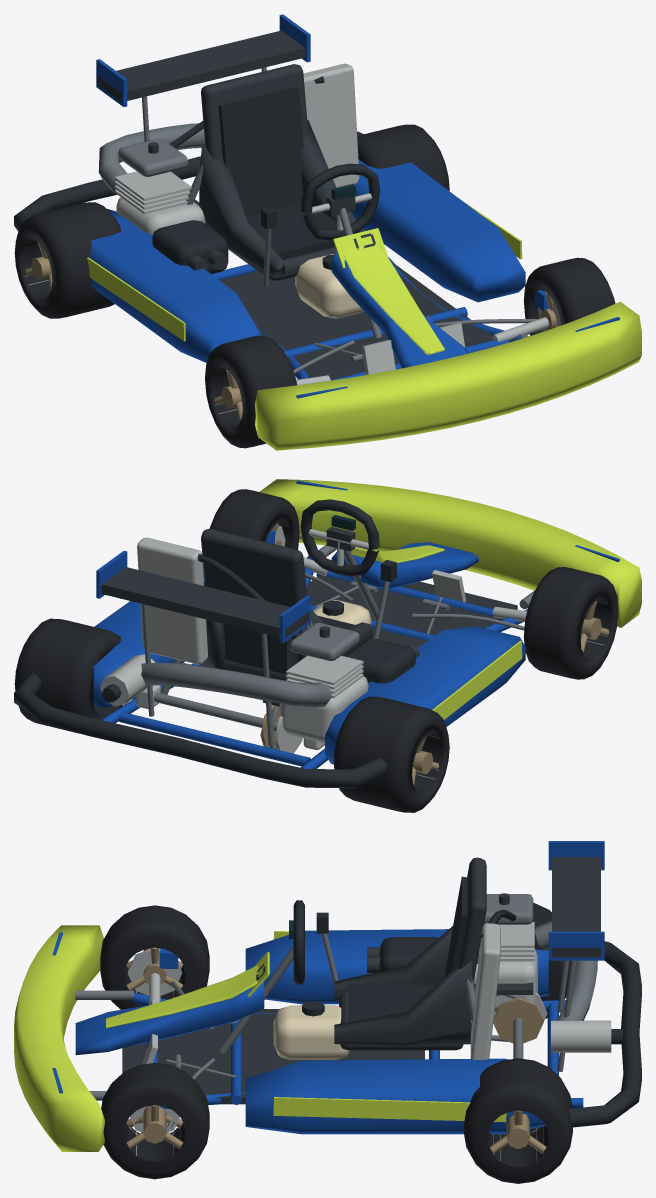
File: oobi-lod.glb
3 renders of one model, top to bottom at view 1: azimuth 30°, elevation 25°; view 2: azimuth 150°, elevation 25°; view 3: azimuth 270°, elevation 25°, orthographic.
Visible parts, largest first — view 1: Livery ivory (×2), paint, Satin composite, Slick vulcanised rubber (×4), Seat fabric, Brushed alloy (×2), Moulded bumper polymer (×2), Steel fasteners, Fuel reservoir, Magnesium wheel centres; view 2: Slick vulcanised rubber (×4), Satin composite (×2), Livery ivory (×2), paint, Brushed alloy (×3), Moulded bumper polymer (×2), Steel fasteners, Magnesium wheel centres (×2), Fuel reservoir; view 3: paint, Slick vulcanised rubber (×4), Satin composite, Livery ivory (×2), Brushed alloy (×2), Moulded bumper polymer (×2), Steel fasteners (×2), Magnesium wheel centres (×4), Seat fabric, Fuel reservoir.
Boxes of the visible parts, x1,y1,x2,y2 form: Livery ivory (×2): (87, 199, 641, 450); paint: (90, 14, 525, 380); Satin composite: (97, 30, 492, 379); Slick vulcanised rubber (×4): (14, 124, 615, 448); Seat fabric: (218, 86, 336, 259); Brushed alloy (×2): (114, 63, 548, 385); Moulded bumper polymer (×2): (14, 76, 380, 273); Steel fasteners: (98, 67, 538, 373); Fuel reservoir: (295, 254, 363, 318); Magnesium wheel centres: (214, 370, 242, 421); Slick vulcanised rubber (×4): (14, 489, 618, 812); Satin composite (×2): (101, 527, 517, 706); Livery ivory (×2): (128, 479, 641, 719); paint: (93, 542, 527, 768); Brushed alloy (×3): (100, 529, 526, 753); Moulded bumper polymer (×2): (14, 499, 415, 788); Steel fasteners: (135, 550, 524, 749); Magnesium wheel centres (×2): (412, 601, 609, 785); Fuel reservoir: (313, 600, 371, 624); paint: (75, 841, 604, 1134); Slick vulcanised rubber (×4): (100, 903, 572, 1183); Satin composite: (122, 857, 600, 1104); Livery ivory (×2): (14, 925, 506, 1151); Brushed alloy (×2): (127, 922, 611, 1059); Moulded bumper polymer (×2): (293, 900, 641, 1127); Steel fasteners (×2): (75, 894, 597, 1128); Magnesium wheel centres (×4): (126, 947, 546, 1153); Seat fabric: (348, 876, 467, 1022); Fuel reservoir: (273, 1005, 349, 1059).
Size of the model in its own units: 1.96 by 1.01 by 2.7.
